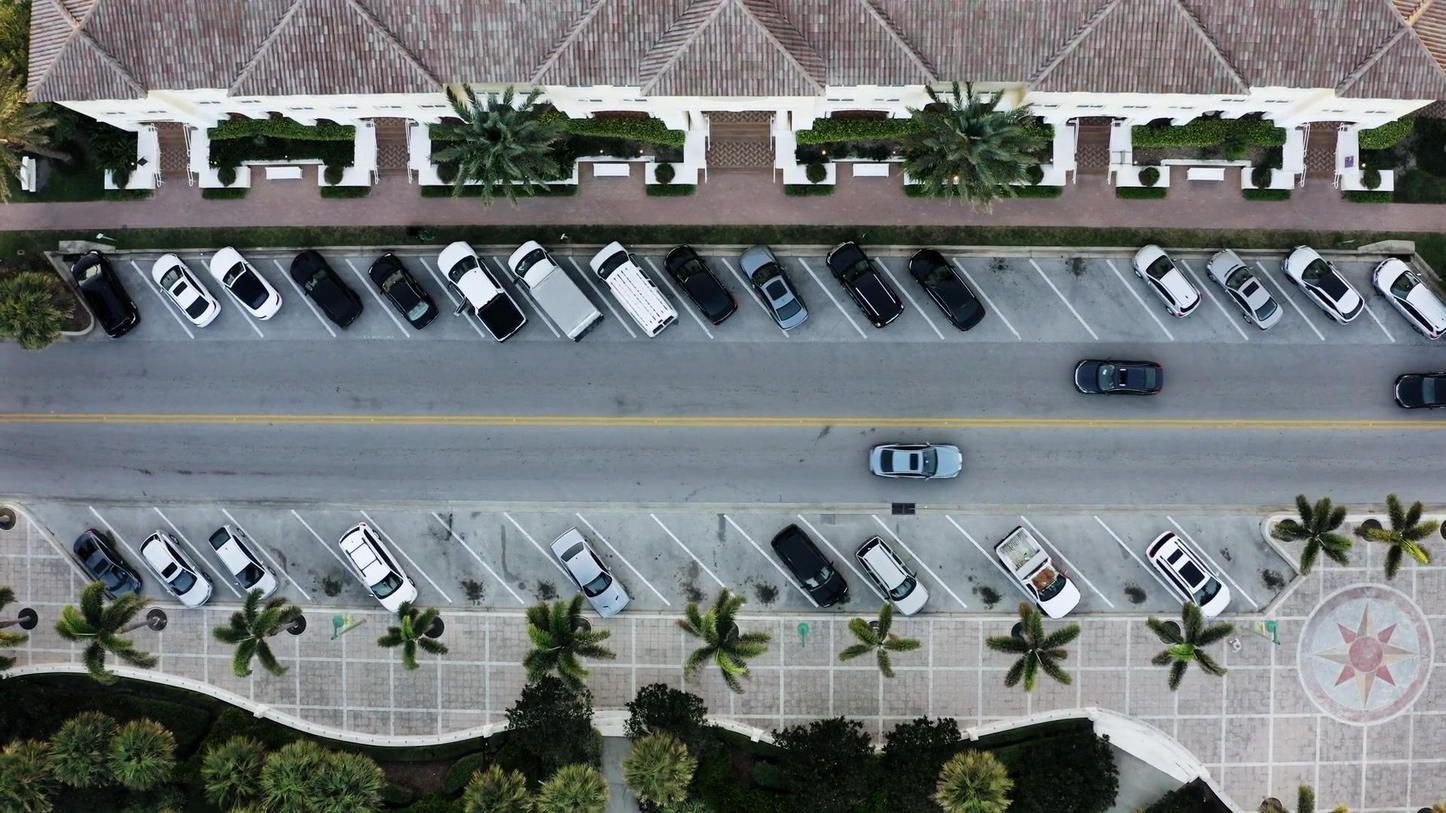car: (1073, 358, 1162, 395), (875, 440, 964, 477), (1358, 367, 1446, 404)
free: (988, 254, 1053, 339), (1045, 272, 1130, 308), (934, 552, 986, 589), (1069, 538, 1121, 575), (705, 537, 757, 574), (431, 553, 483, 590), (486, 550, 538, 587), (289, 544, 341, 581), (1236, 541, 1288, 577), (627, 549, 679, 585)
occupied: (439, 240, 531, 342), (589, 242, 677, 338), (1145, 530, 1233, 617), (999, 526, 1080, 619), (736, 243, 817, 333), (338, 523, 419, 612), (509, 228, 590, 317), (552, 529, 632, 617), (1281, 244, 1367, 324), (826, 243, 901, 330), (770, 523, 846, 608), (907, 248, 985, 330), (68, 250, 140, 338), (1205, 249, 1283, 329), (290, 249, 366, 329), (1371, 259, 1446, 340), (366, 251, 441, 331), (669, 243, 740, 327), (138, 531, 215, 608), (207, 524, 280, 601), (212, 246, 285, 322), (1131, 244, 1202, 320), (853, 536, 923, 612), (152, 252, 222, 328), (73, 529, 143, 600)
